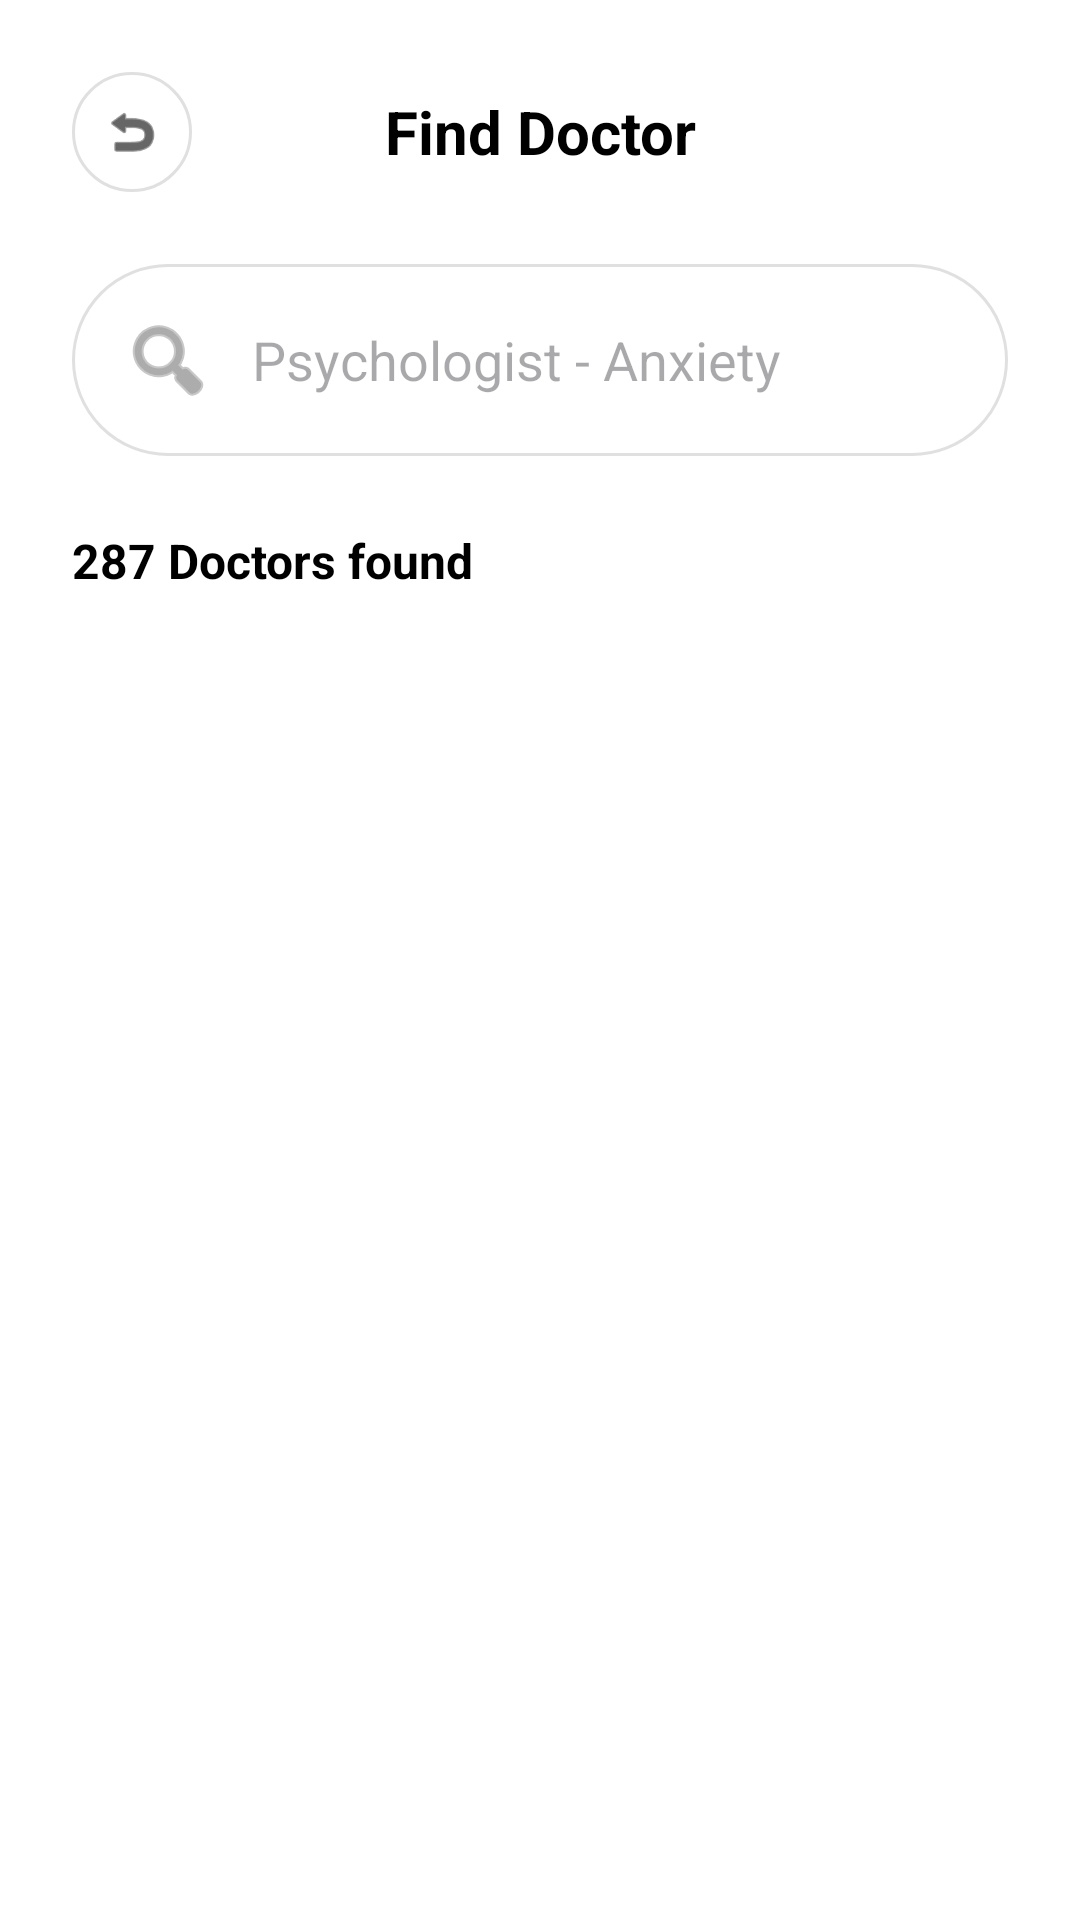

Locate icon controls on the screen. Image size 1080w x 1920h, boxes as (x1, y1, x2, y2).
revert: (72, 72, 192, 192)
